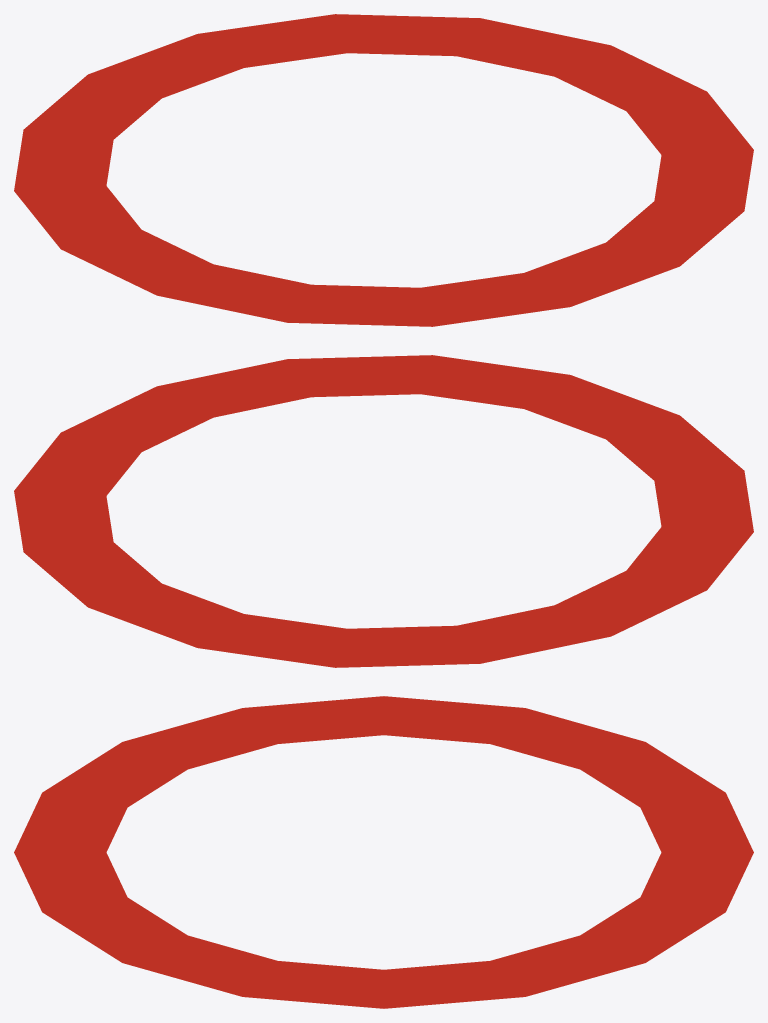
File: VLAB_target.fbx
The picture shows the model from 3 angles, top to bottom: view 1: azimuth 30°, elevation 25°; view 2: azimuth 150°, elevation 25°; view 3: azimuth 270°, elevation 25°; orthographic projection.
Visible parts, largest first — view 1: VLAB_target_HitMarker_VIS; view 2: VLAB_target_HitMarker_VIS; view 3: VLAB_target_HitMarker_VIS.
Boxes of the visible parts, bbox=[...] form: VLAB_target_HitMarker_VIS: bbox=[14, 14, 753, 326]; VLAB_target_HitMarker_VIS: bbox=[14, 355, 753, 667]; VLAB_target_HitMarker_VIS: bbox=[14, 696, 753, 1008].
Size of what is drawn, in the model's own units: 0.008 by 1.3e-09 by 0.008.
